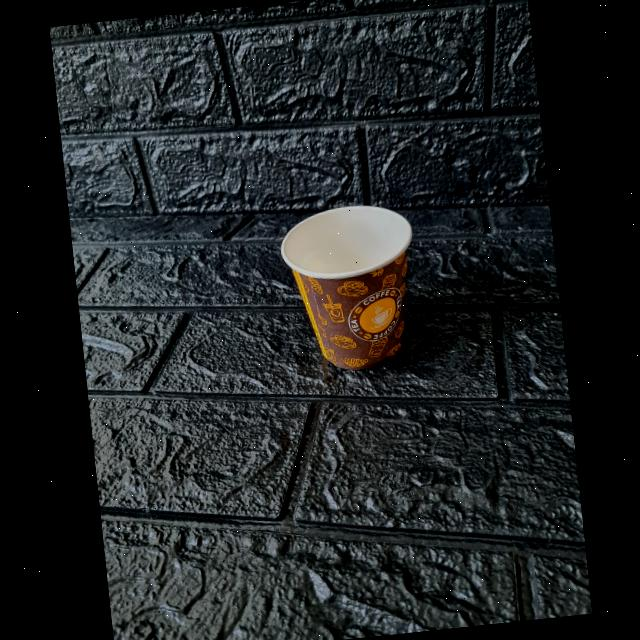trash: (274, 195, 432, 386)
